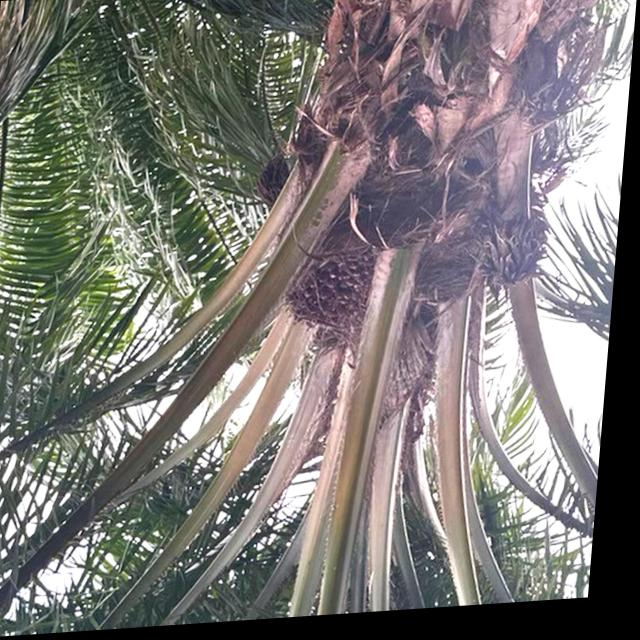ripe: (290, 245, 384, 345)
